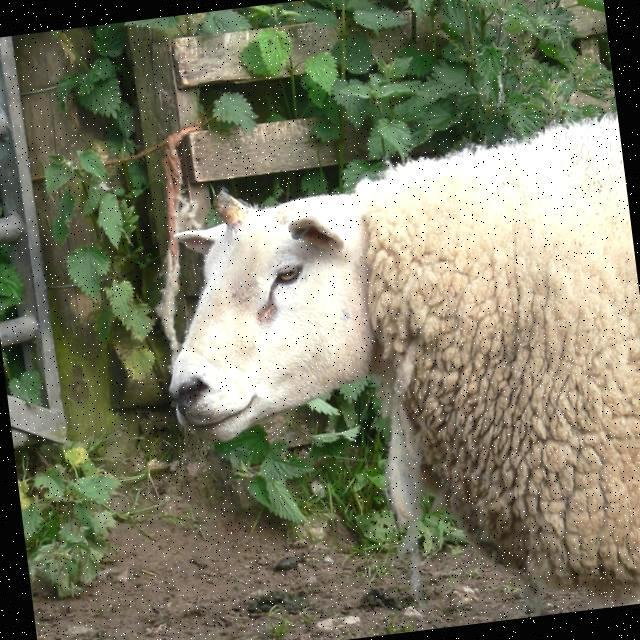sheep: (171, 112, 640, 611)
